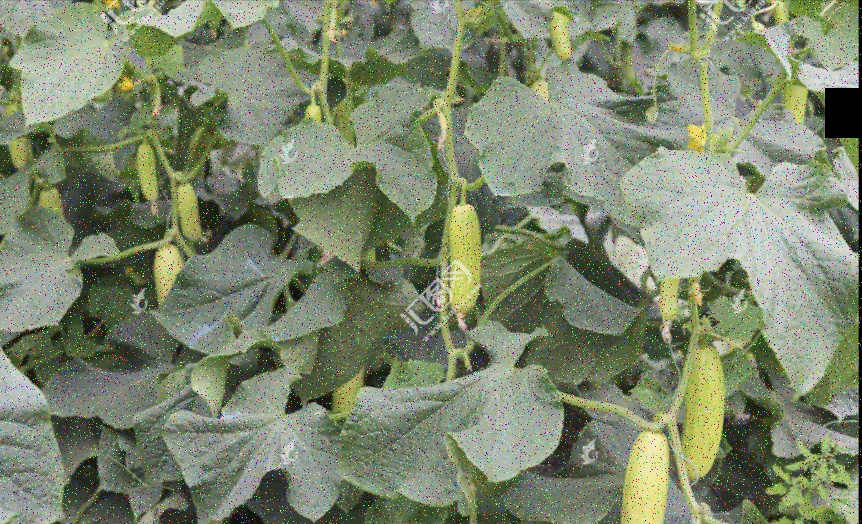cucumber_plant: (637, 115, 853, 390), (179, 378, 555, 521), (19, 1, 177, 130)
